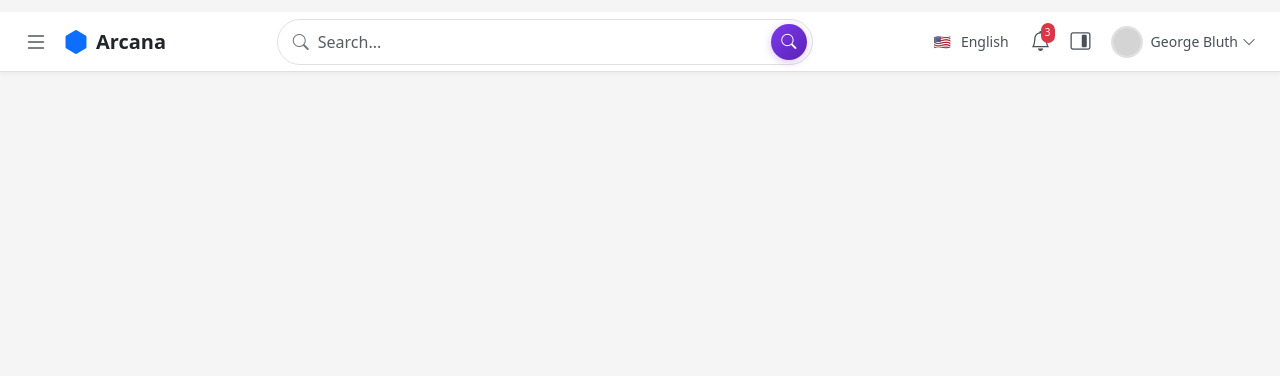
Test: HeaderComponent › language dropdown › should show all 6 languages in dropdown
The image size is (1280, 376).
Step 1. Click the button with class "language-selector" → click(971, 42), box [924,25,1019,58]
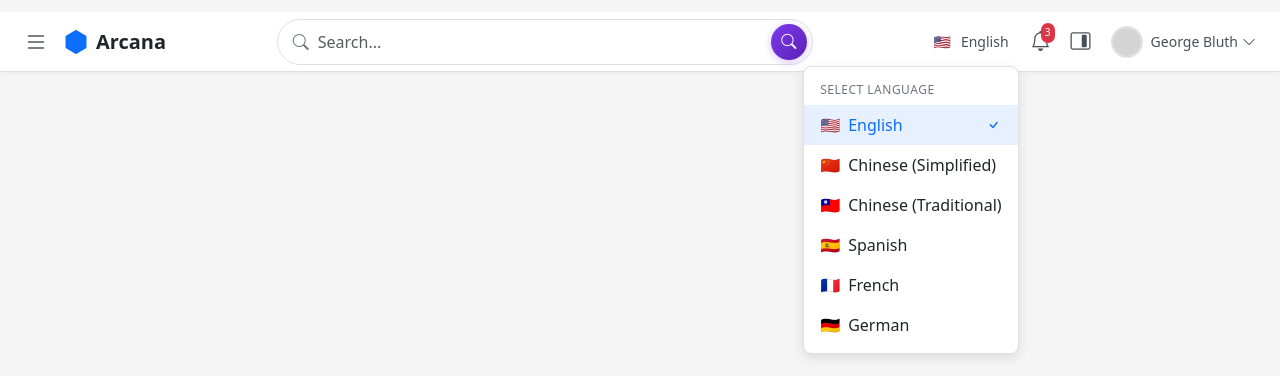
Now the number of buttons with class "dropdown-item" is 6, box [804,105,1018,145]; [804,145,1018,185]; [804,185,1018,225]; [804,225,1018,265]; [804,265,1018,305]; [804,305,1018,345]
